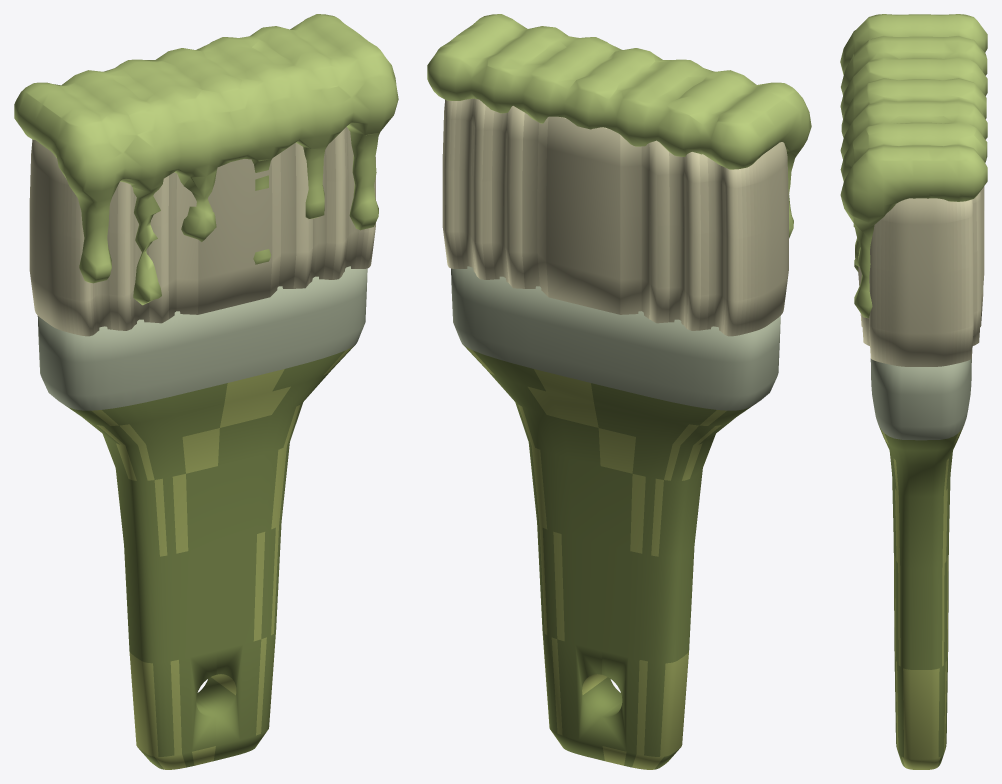
The model's file is Paintbrush_Snail.glb.
3 views of the same model, side by side, from view 1: azimuth 30°, elevation 25°; view 2: azimuth 150°, elevation 25°; view 3: azimuth 270°, elevation 25° (orthographic). The views are drawn at different scales.
Visible parts, largest first — view 1: Body, Paint, Bristles; view 2: Body, Bristles, Paint; view 3: Paint, Body, Bristles.
Boxes of the visible parts, bbox=[...] form: Body: bbox=[37, 266, 367, 769]; Paint: bbox=[14, 14, 398, 305]; Bristles: bbox=[29, 127, 375, 336]; Body: bbox=[451, 266, 780, 769]; Bristles: bbox=[442, 98, 788, 336]; Paint: bbox=[427, 14, 811, 238]; Paint: bbox=[840, 14, 987, 318]; Body: bbox=[870, 358, 971, 769]; Bristles: bbox=[858, 186, 984, 366].
Bounding box in the file's own units: 1.23 × 2.44 × 0.4919.
